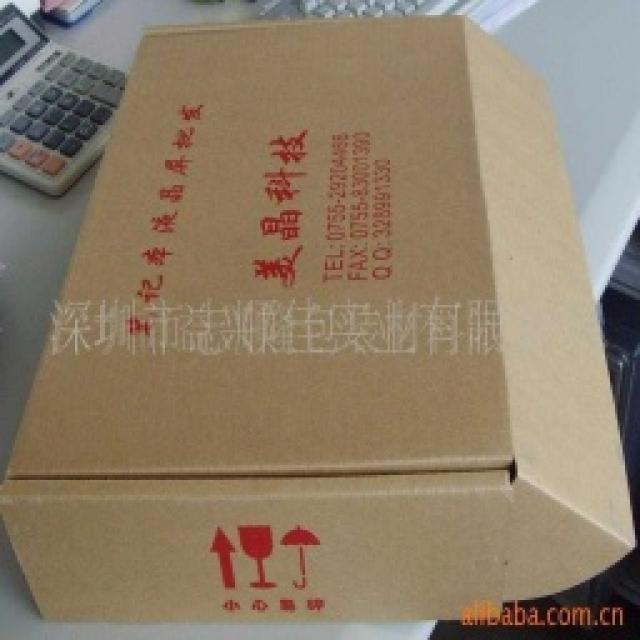box: (25, 0, 640, 608)
